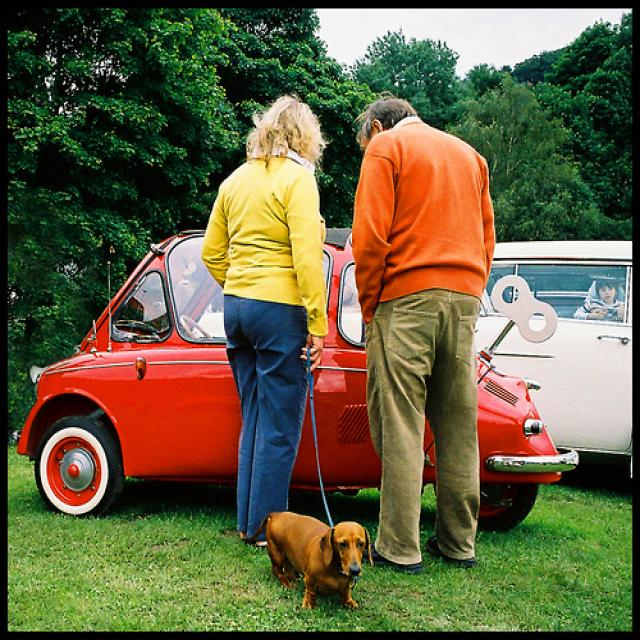Car: (10, 239, 546, 517)
